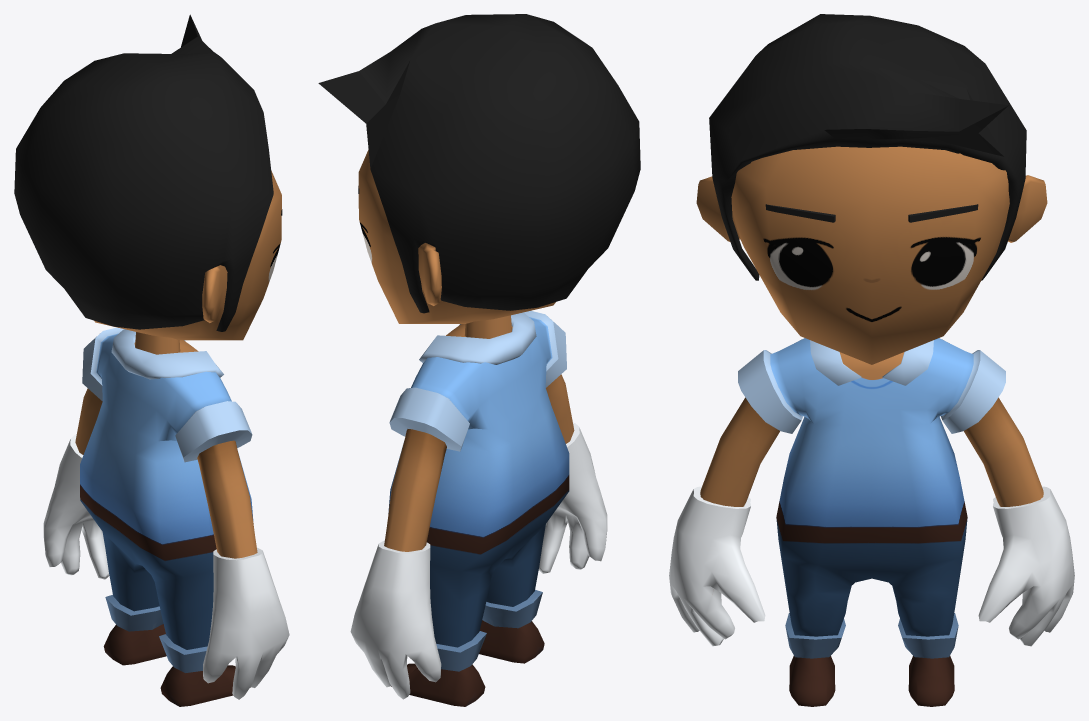
The model's file is Character_1B.fbx.
3 renders of one model, left to right at view 1: azimuth 30°, elevation 25°; view 2: azimuth 150°, elevation 25°; view 3: azimuth 270°, elevation 25°, orthographic. The views are drawn at different scales.
Parts seen in each view (by area): view 1: Character1B; view 2: Character1B; view 3: Character1B.
Part boxes in pixels (x1,y1,x2,y2): Character1B: [14, 14, 289, 706]; Character1B: [318, 14, 640, 706]; Character1B: [669, 14, 1074, 706].
Bounding box in the file's own units: 47.26 × 125 × 70.67.
